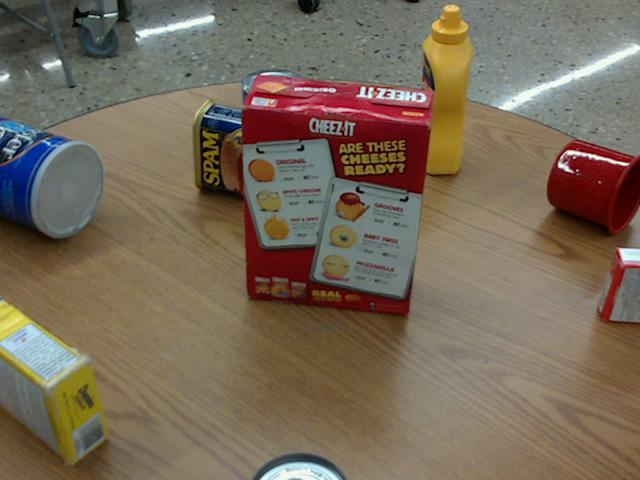cracker_box: (241, 74, 434, 311)
gelatin_box: (600, 249, 639, 324)
master_chef_can: (0, 115, 106, 237)
mug: (547, 139, 639, 233)
mustard_bottle: (414, 4, 473, 172)
potted_meat_can: (193, 97, 281, 198)
sugar_box: (0, 293, 109, 461)
tomato_soup_can: (254, 452, 351, 479)
tuna_fish_can: (242, 66, 307, 120)
